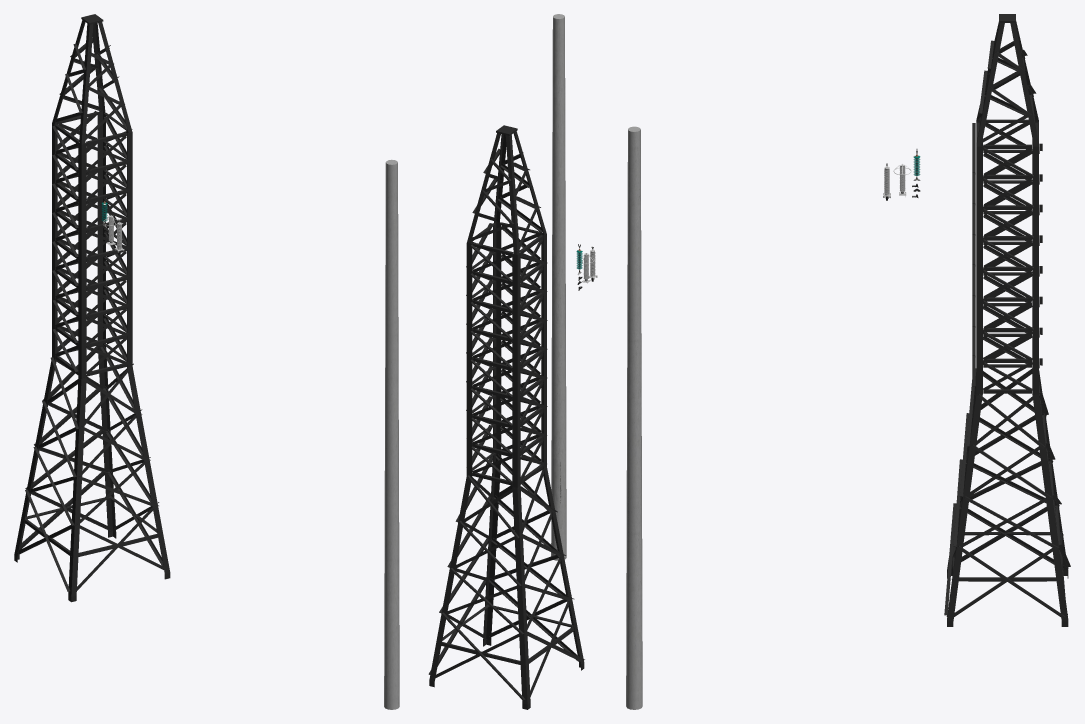
3 renders of one model, left to right at view 1: azimuth 30°, elevation 25°; view 2: azimuth 150°, elevation 25°; view 3: azimuth 270°, elevation 25°, orthographic. The views are drawn at different scales.
Parts seen in each view (by area): view 1: Opora_Metall, Concrete_Cracked, Concrete_Duplo; view 2: Opora_Metall, Concrete_Cracked, Concrete_Duplo, Ugolok_Otsutstvie; view 3: Opora_Metall, Concrete_Cracked, Concrete_Duplo, Ugolok_Otsutstvie.
Boxes of the visible parts, x1=… form: Opora_Metall: x1=14, y1=14, x2=170, y2=602; Concrete_Cracked: x1=384, y1=159, x2=399, y2=709; Concrete_Duplo: x1=384, y1=164, x2=399, y2=709; Opora_Metall: x1=428, y1=125, x2=584, y2=709; Concrete_Cracked: x1=551, y1=14, x2=566, y2=560; Concrete_Duplo: x1=551, y1=18, x2=566, y2=560; Ugolok_Otsutstvie: x1=439, y1=496, x2=491, y2=613; Opora_Metall: x1=944, y1=14, x2=1070, y2=626; Concrete_Cracked: x1=626, y1=126, x2=642, y2=709; Concrete_Duplo: x1=626, y1=131, x2=642, y2=709; Ugolok_Otsutstvie: x1=963, y1=444, x2=1058, y2=549.
Bounding box in the file's own units: 8648 × 26745 × 17254.
Materials: 8 (6 with a texture image).
